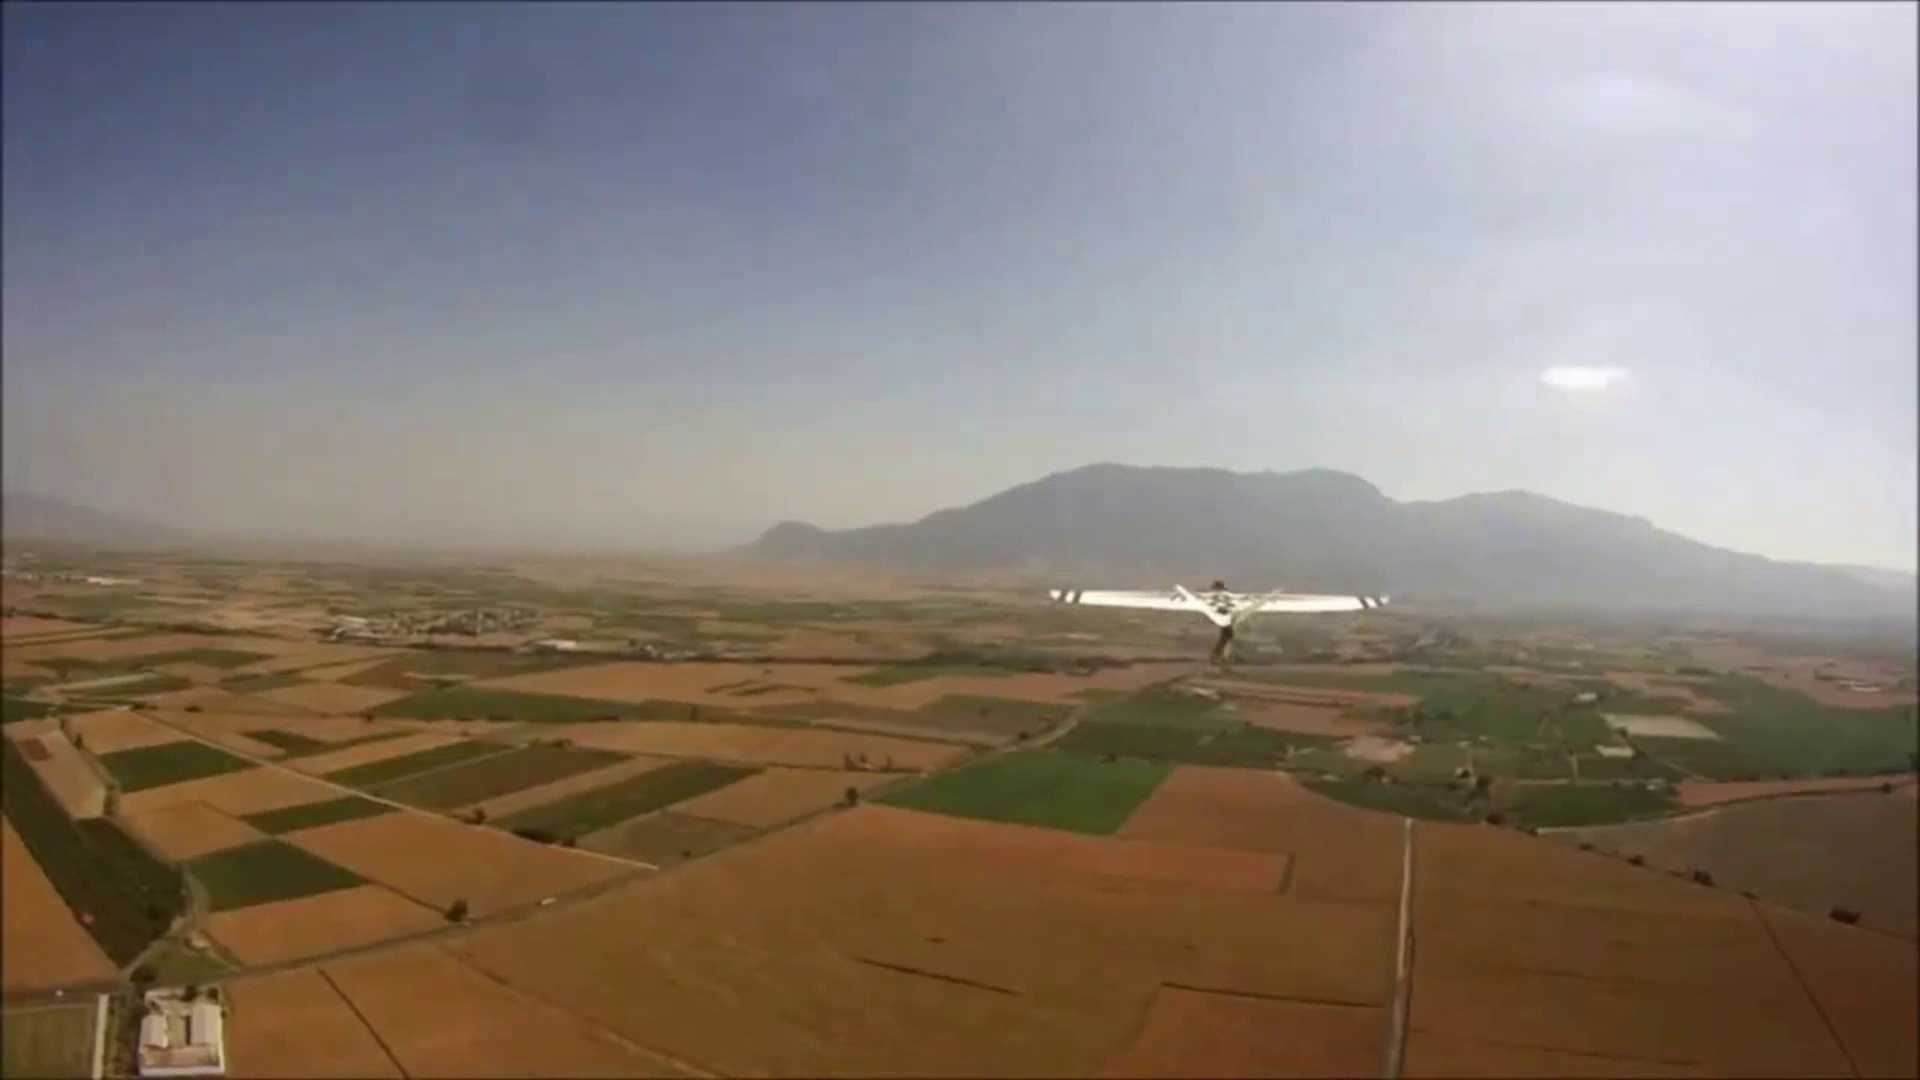airplane: (1047, 578, 1395, 644)
